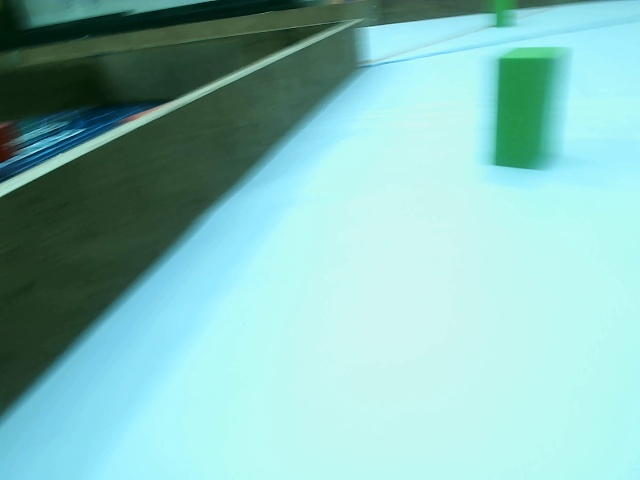green: (485, 42, 573, 177)
